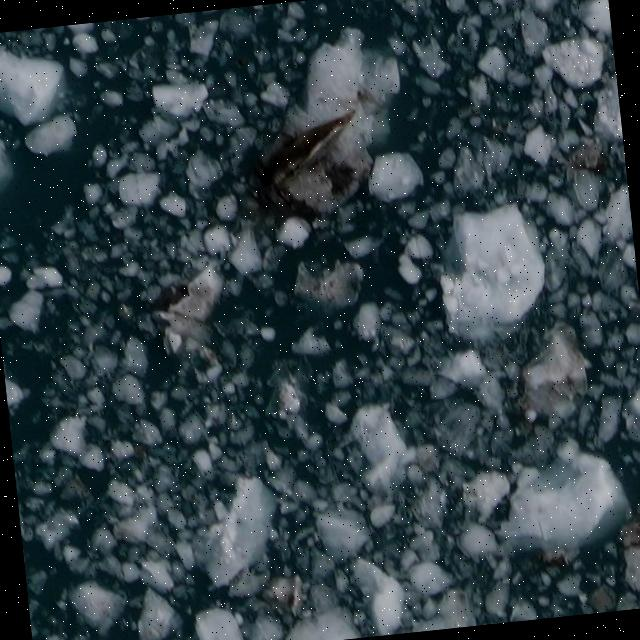seal: (258, 93, 360, 193)
